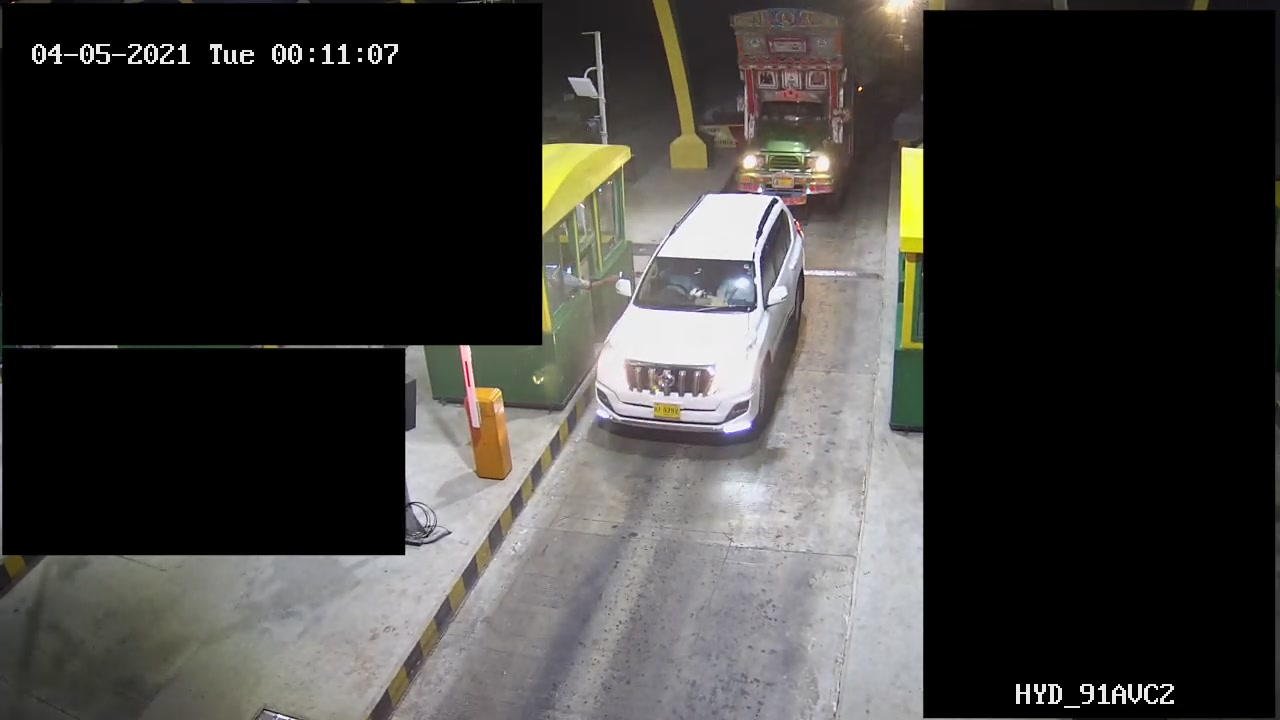F1: (568, 192, 840, 456)
